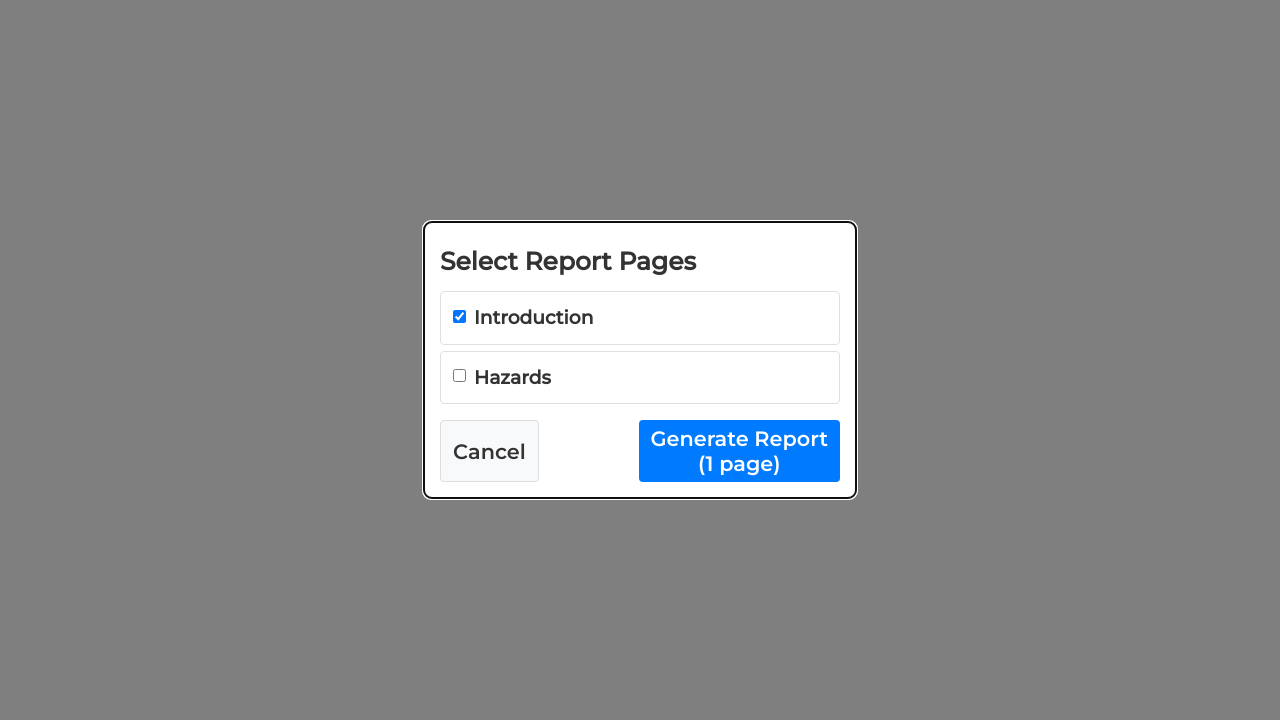
Test: PageSelectionModal › updates the selected-page count when a checkbox is toggled
Expected: the button "Generate Report (1 page)" is shown, top-left (638, 420), bottom-right (840, 482)
What coordinates should you click on to do the following:
click the checkbox named "Include Hazards in report"
I would click on:
 (460, 376)
Its box is top-left (453, 370), bottom-right (466, 382).
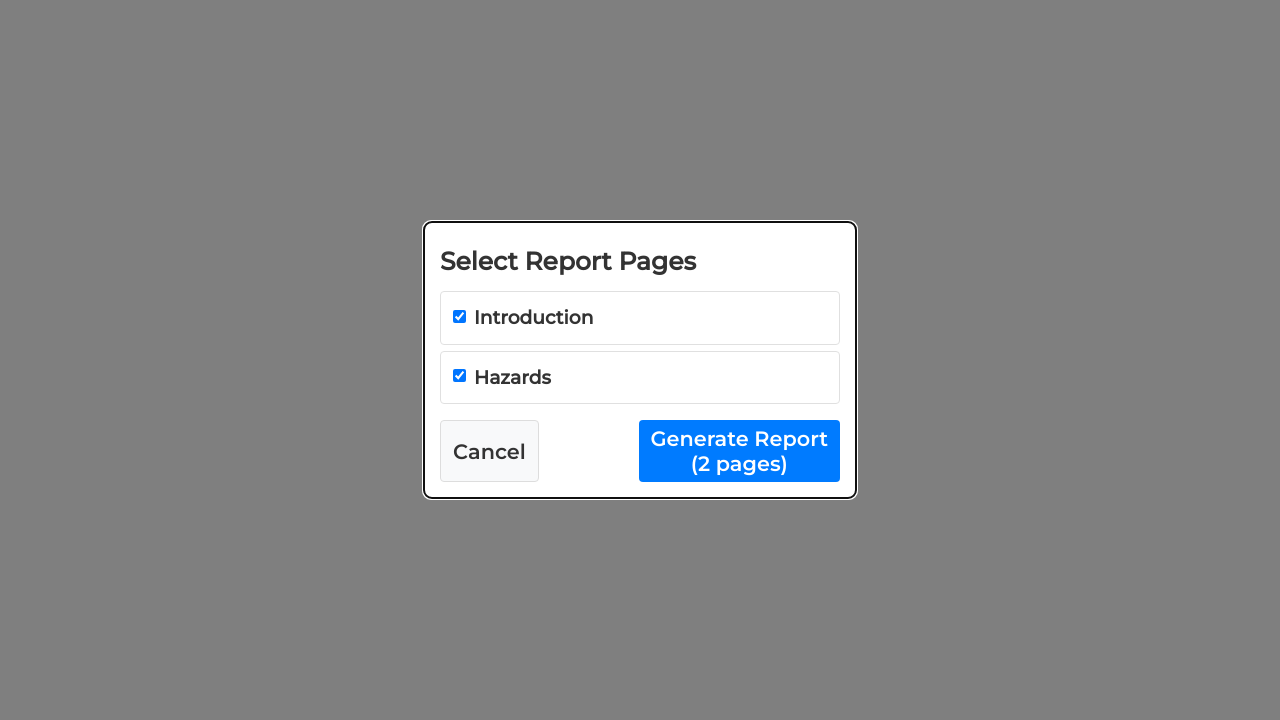
Expected: the button "Generate Report (2 pages)" is shown, top-left (638, 420), bottom-right (840, 482)
